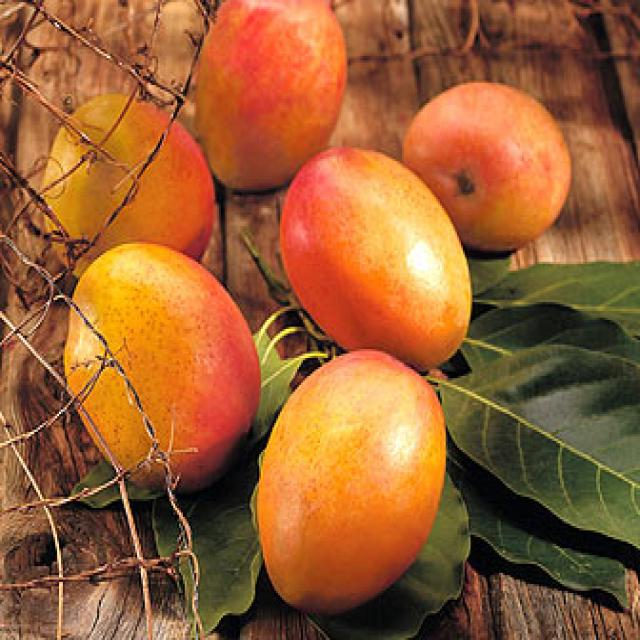mango: (255, 348, 452, 615), (65, 243, 264, 491), (271, 144, 483, 376), (191, 2, 349, 190), (404, 82, 572, 250)
